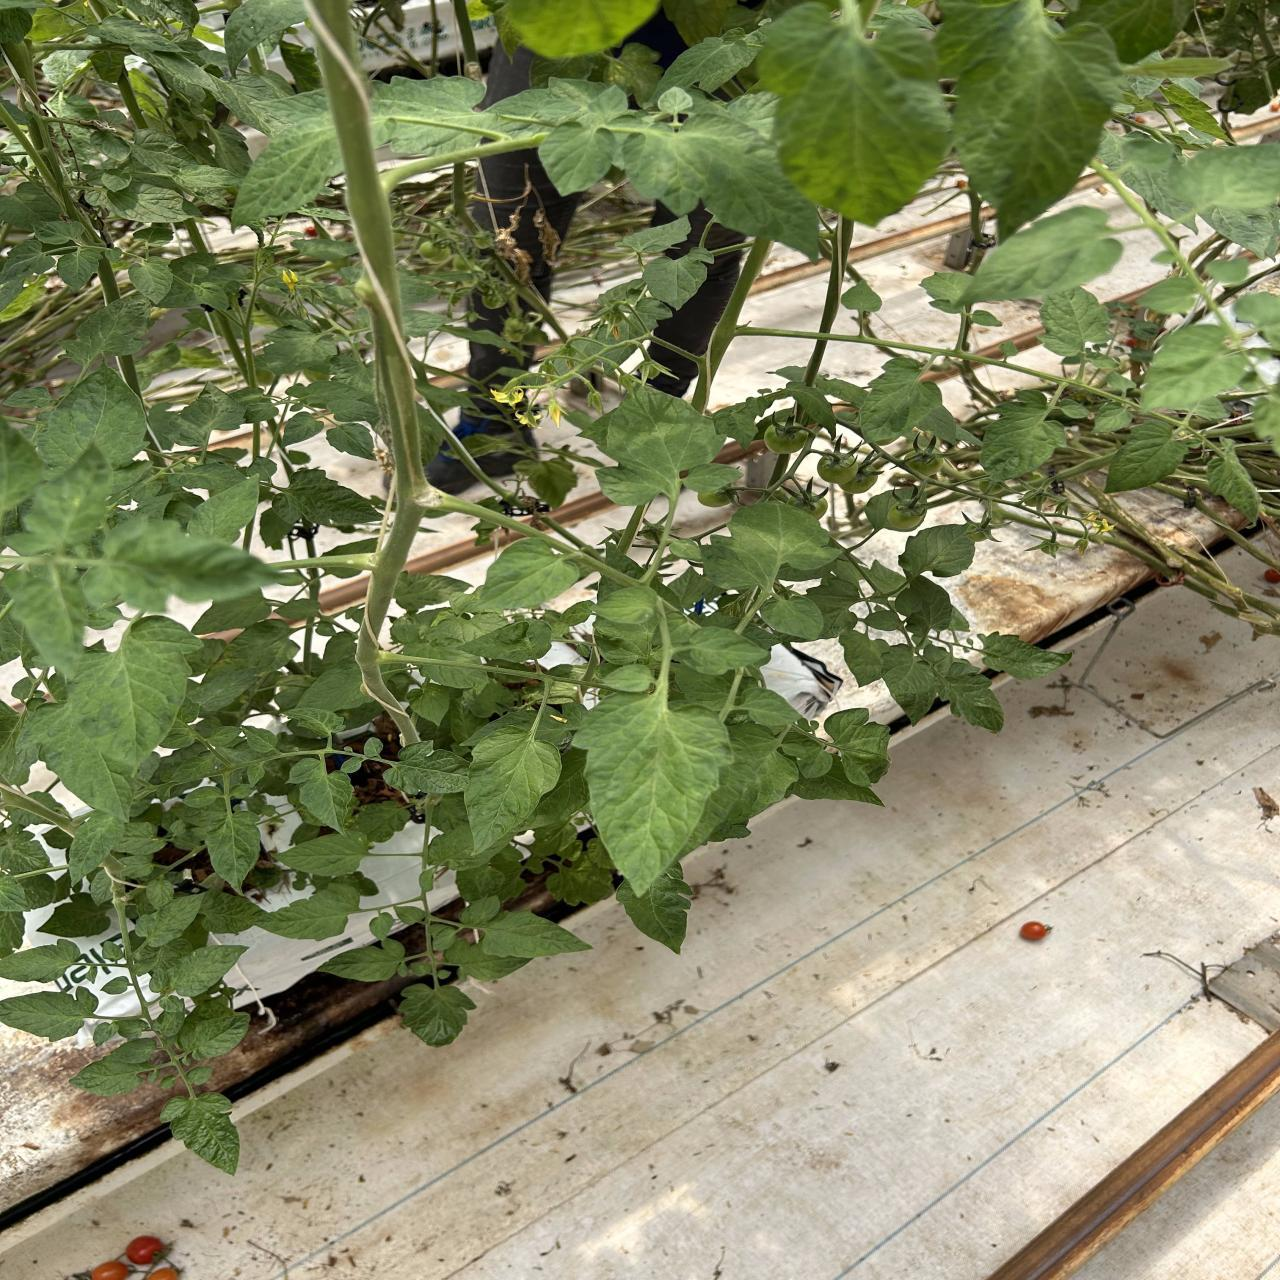Flor: (1092, 519, 1118, 536), (1078, 511, 1101, 529), (1071, 538, 1089, 556)
Hoja: (935, 0, 1123, 238), (758, 0, 951, 223), (572, 651, 733, 891), (625, 116, 819, 266), (60, 618, 205, 775), (81, 520, 279, 611), (959, 206, 1123, 304), (19, 686, 135, 823), (583, 388, 723, 501), (232, 89, 342, 224), (464, 726, 561, 857), (704, 502, 838, 593), (32, 368, 145, 471), (369, 75, 495, 158), (22, 444, 113, 553), (461, 536, 588, 611), (5, 564, 87, 678), (1142, 325, 1250, 410), (1170, 143, 1280, 212), (855, 358, 942, 443), (617, 860, 692, 953), (271, 469, 380, 530), (159, 1092, 239, 1176), (225, 0, 306, 81), (980, 402, 1064, 479), (257, 880, 361, 940), (62, 297, 150, 366), (1107, 418, 1189, 492), (540, 121, 619, 197), (771, 578, 860, 644), (0, 988, 98, 1041), (482, 912, 590, 958), (1040, 287, 1110, 356), (72, 1039, 155, 1096), (204, 806, 260, 891), (399, 985, 476, 1046), (674, 626, 769, 675), (189, 477, 259, 543), (290, 757, 352, 829), (386, 741, 469, 794), (163, 945, 247, 996), (880, 646, 940, 719), (641, 250, 712, 309), (0, 420, 45, 513), (980, 632, 1068, 679), (1207, 441, 1259, 520), (946, 661, 1003, 731), (428, 826, 519, 870), (899, 524, 974, 577), (68, 811, 125, 878), (280, 832, 368, 876), (462, 619, 552, 661), (320, 939, 406, 981), (0, 939, 82, 982), (136, 894, 200, 946), (445, 940, 527, 980), (188, 1014, 250, 1060), (762, 594, 824, 640), (839, 631, 888, 687), (618, 217, 689, 254), (591, 587, 658, 626), (1234, 292, 1280, 348), (740, 688, 802, 729), (597, 467, 662, 505), (172, 459, 245, 493), (910, 574, 953, 629), (1137, 275, 1194, 314), (921, 272, 974, 313), (278, 707, 346, 736), (681, 464, 744, 492), (602, 665, 653, 693), (842, 279, 881, 313), (588, 86, 628, 118), (1206, 258, 1248, 287), (461, 896, 499, 927), (172, 756, 213, 782), (655, 87, 693, 115), (241, 726, 278, 754), (668, 539, 704, 563), (207, 727, 245, 747), (369, 912, 395, 940), (182, 790, 220, 808), (393, 905, 425, 925), (159, 733, 196, 749), (434, 927, 457, 951), (363, 736, 382, 758), (416, 867, 434, 891), (340, 757, 365, 772), (248, 764, 265, 787), (231, 784, 257, 798), (410, 961, 430, 976), (152, 964, 162, 982), (437, 971, 450, 978)
Hoja rugoso: (159, 1092, 239, 1175)
Pedunculo: (305, 0, 436, 742), (733, 309, 1226, 461), (424, 478, 707, 708), (0, 781, 198, 1104), (615, 237, 771, 558), (833, 411, 1104, 543), (377, 649, 648, 741), (348, 795, 470, 988), (769, 213, 853, 492), (756, 423, 842, 504), (733, 590, 774, 635), (717, 667, 743, 723)
Tomate: (765, 421, 808, 455), (817, 452, 858, 484), (785, 491, 829, 519), (886, 499, 926, 530), (838, 463, 877, 493), (905, 448, 944, 476), (699, 484, 735, 508), (967, 522, 993, 542), (979, 477, 1006, 493), (1023, 491, 1047, 506), (1041, 540, 1058, 553)
